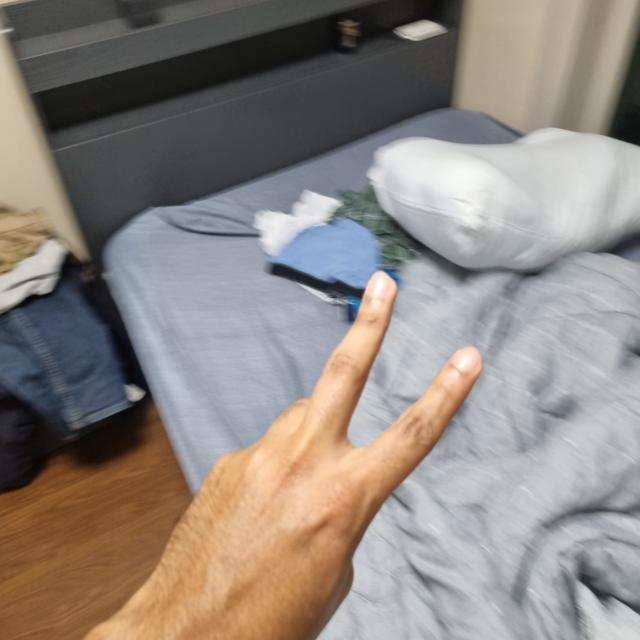Scissors: (125, 278, 480, 639)
